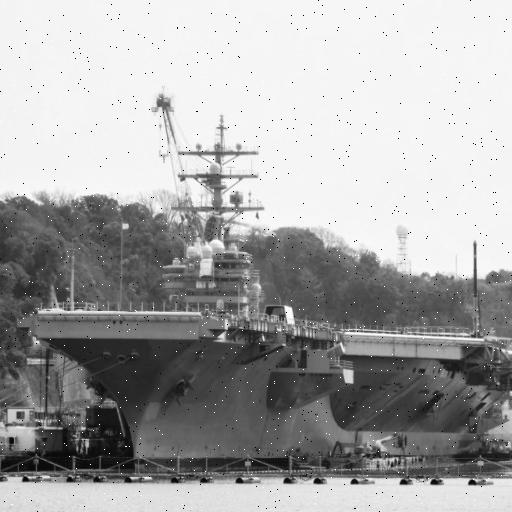Portanaves: (28, 102, 512, 478)
